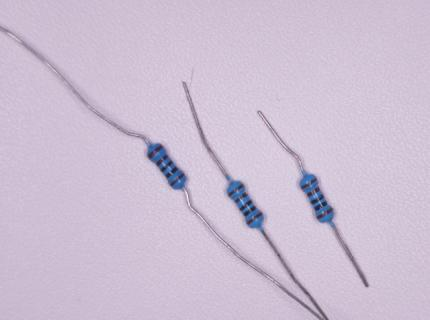Black band: (228, 184, 245, 197), (165, 166, 179, 179), (239, 199, 253, 211), (243, 205, 257, 217), (160, 160, 173, 172), (314, 200, 328, 211), (310, 194, 324, 205)
Brown band: (148, 145, 164, 160), (246, 212, 263, 225), (170, 173, 185, 187), (301, 177, 317, 190), (316, 207, 333, 219), (156, 154, 169, 167), (306, 187, 321, 198), (234, 193, 248, 204)
